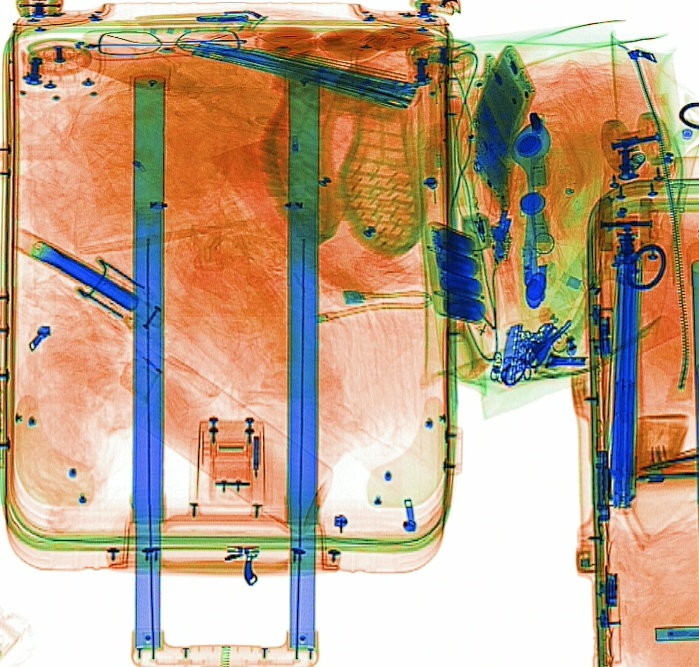powerbank: (424, 218, 493, 333)
